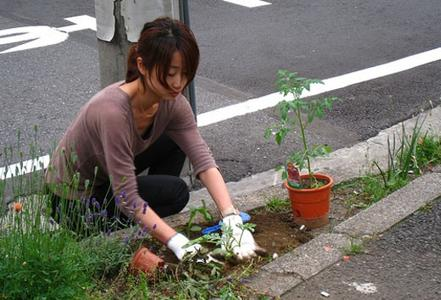person: (40, 16, 269, 273)
